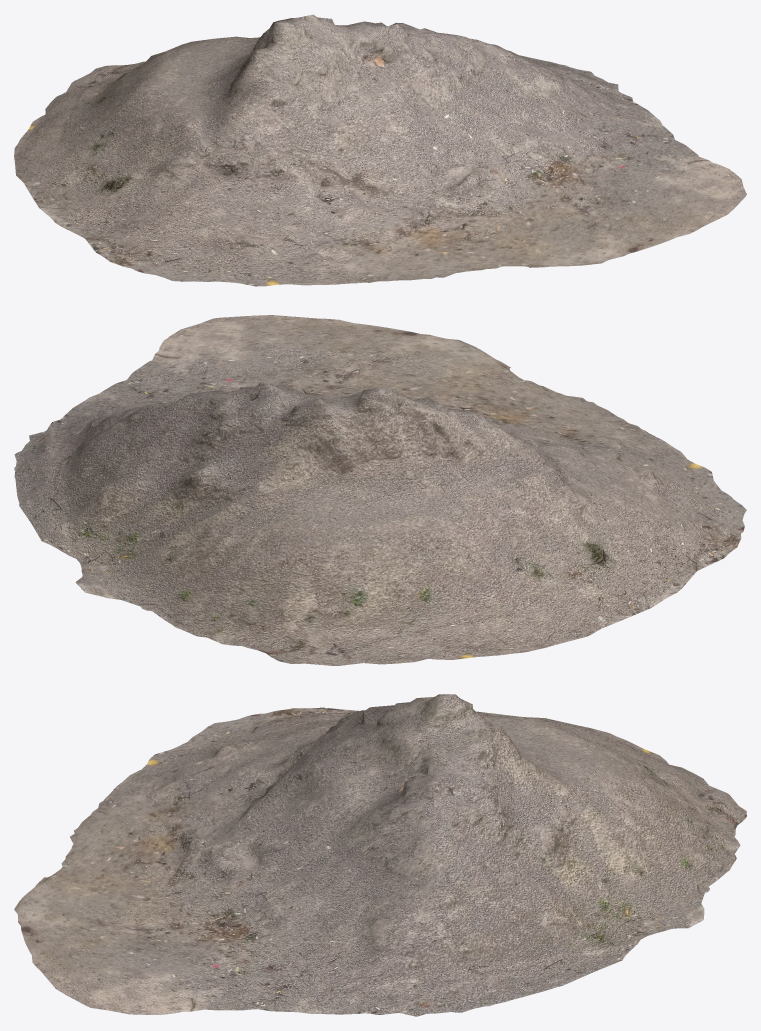
Rendered from sand-pile-small.glb.
The picture shows the model from 3 angles, top to bottom: view 1: azimuth 30°, elevation 25°; view 2: azimuth 150°, elevation 25°; view 3: azimuth 270°, elevation 25°; orthographic projection. The views are drawn at different scales.
Parts seen in each view (by area): view 1: Construction_Sand_Pile; view 2: Construction_Sand_Pile; view 3: Construction_Sand_Pile.
Boxes of the visible parts, x1=… form: Construction_Sand_Pile: x1=14, y1=14, x2=746, y2=286; Construction_Sand_Pile: x1=14, y1=315, x2=746, y2=665; Construction_Sand_Pile: x1=14, y1=694, x2=746, y2=1016.
Bounding box in the file's own units: 5.93 × 1.29 × 5.94.
Materials: 1 (1 with a texture image).
